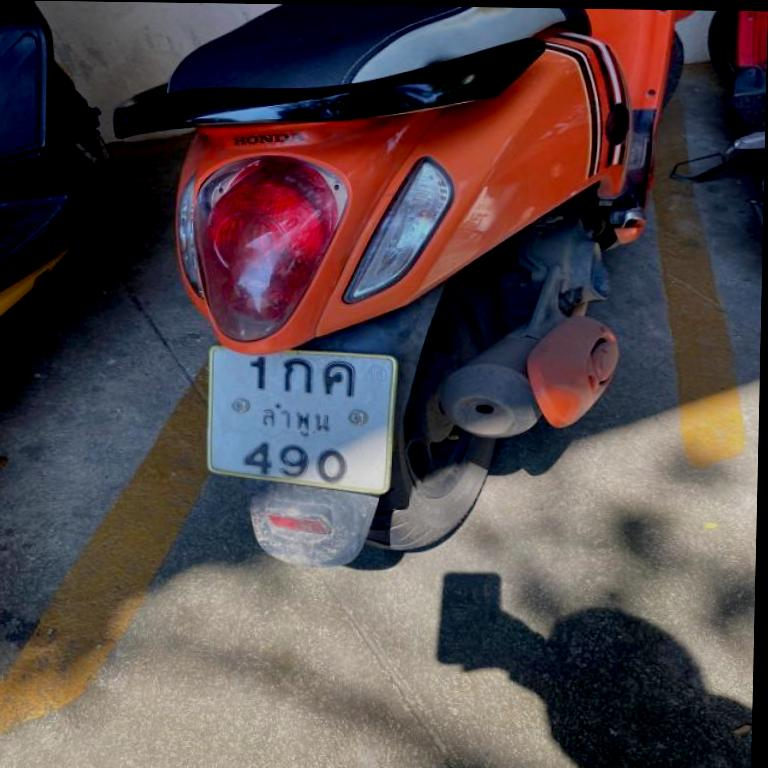license plate: (208, 348, 396, 495)
